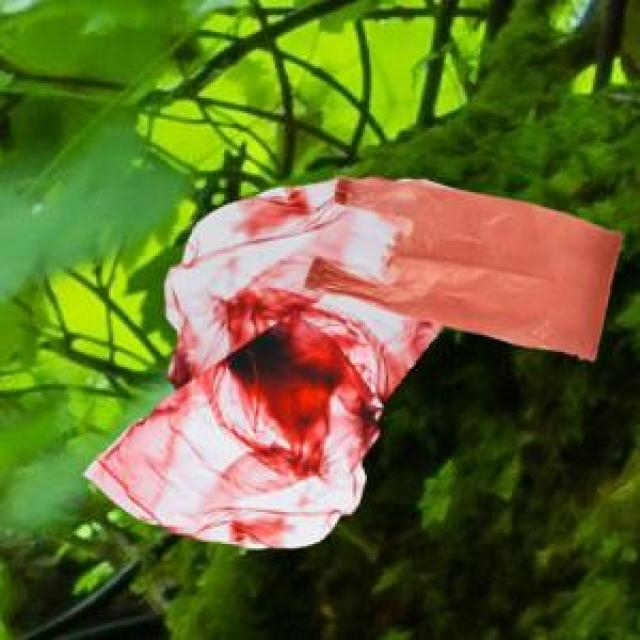plastic: (76, 143, 636, 567)
